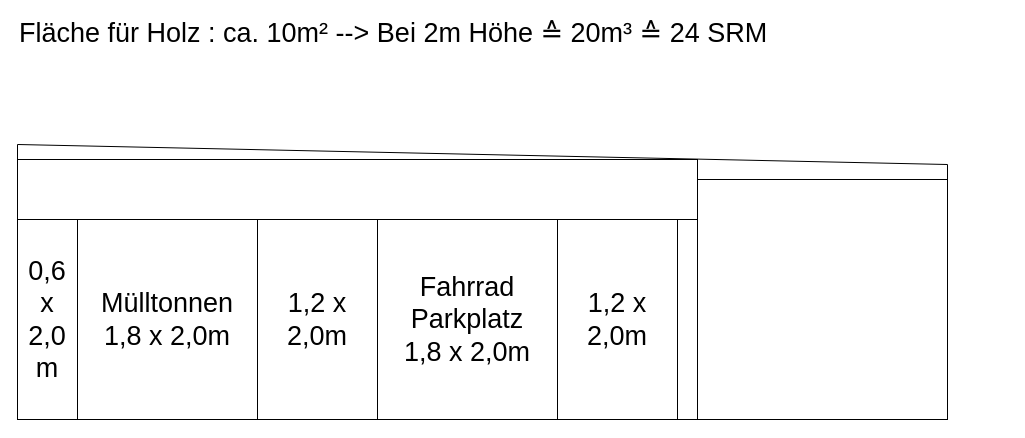
This 1025x438 diagram has some shape labels left out. Each missing label, with the centre of its shape:
6,8 x 0,6: the point at 357,189
Werkstatt- erweiterung 2,5 x 2,5 m: the point at 822,299
